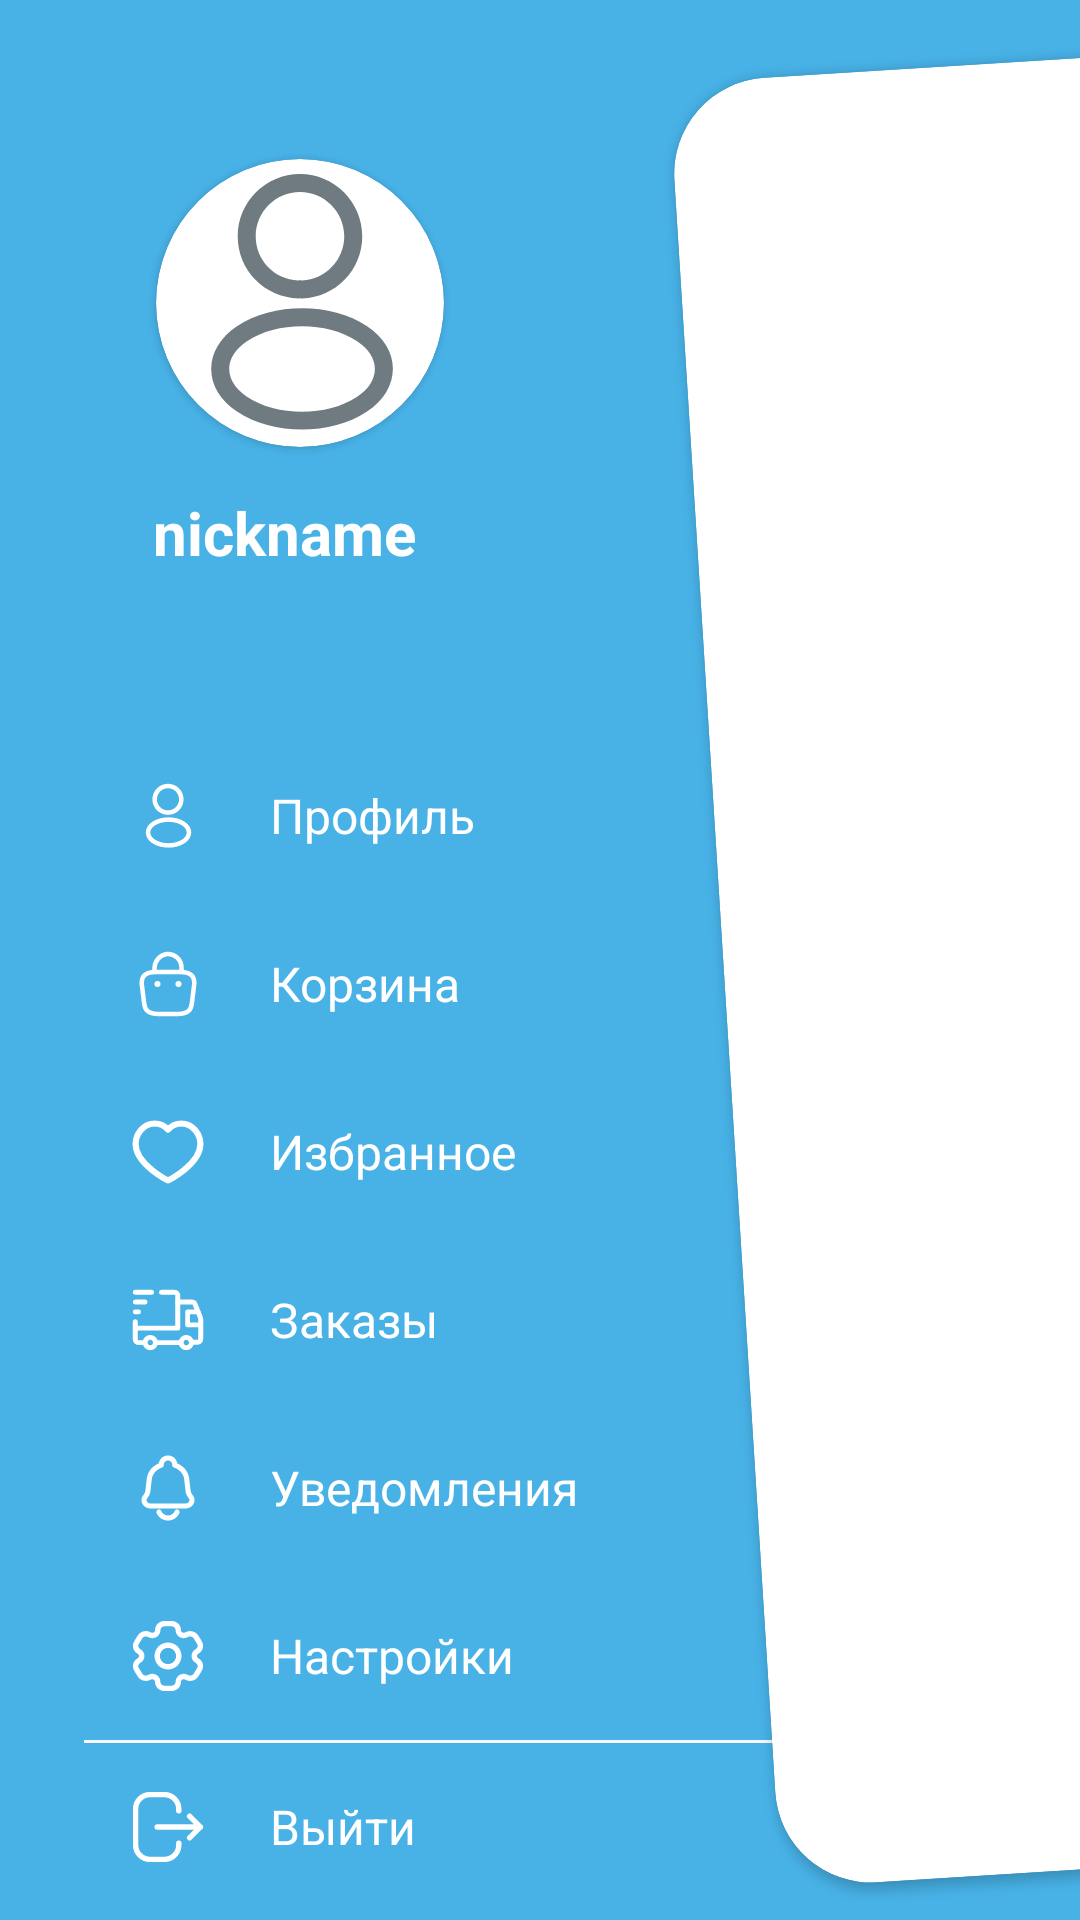

Icon click points for this 1080px x 1920px phone screenshot, format (x=x, y=y):
cart: (x=168, y=984)
favorite: (x=168, y=1152)
notifications: (x=168, y=1488)
orders: (x=168, y=1320)
profile: (x=300, y=303), (x=168, y=815)
settings: (x=168, y=1656)
